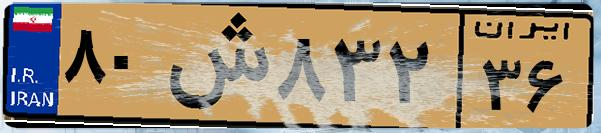0: (110, 28, 158, 98)
2: (385, 28, 445, 110)
3: (330, 28, 385, 110), (475, 38, 525, 113)
6: (525, 38, 570, 115)
8: (270, 28, 330, 110), (57, 26, 110, 100)
ش: (158, 12, 270, 120)
